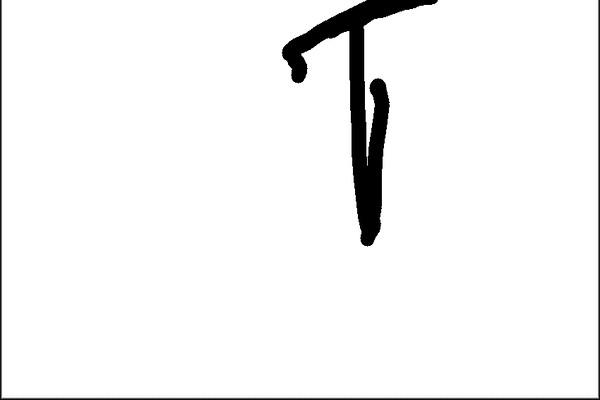T: (271, 2, 446, 246)
